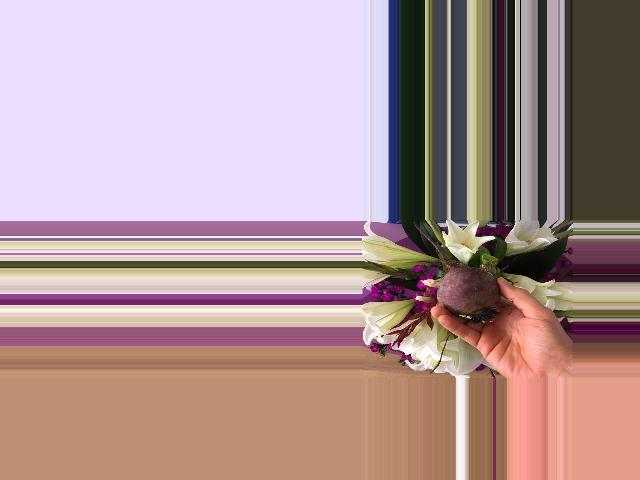beet: (412, 223, 499, 322)
